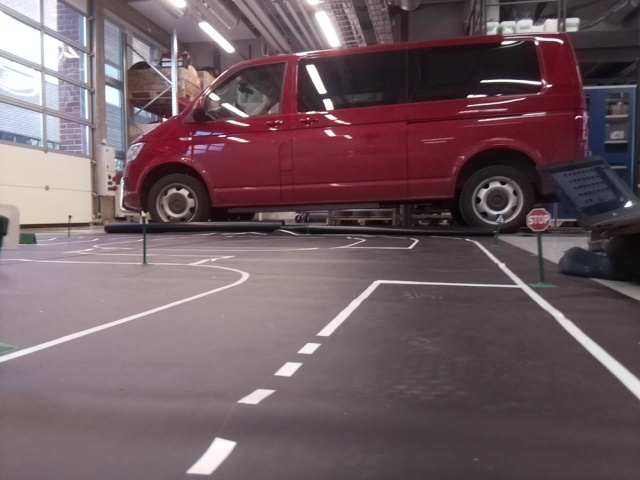Stop: (526, 207, 550, 230)
